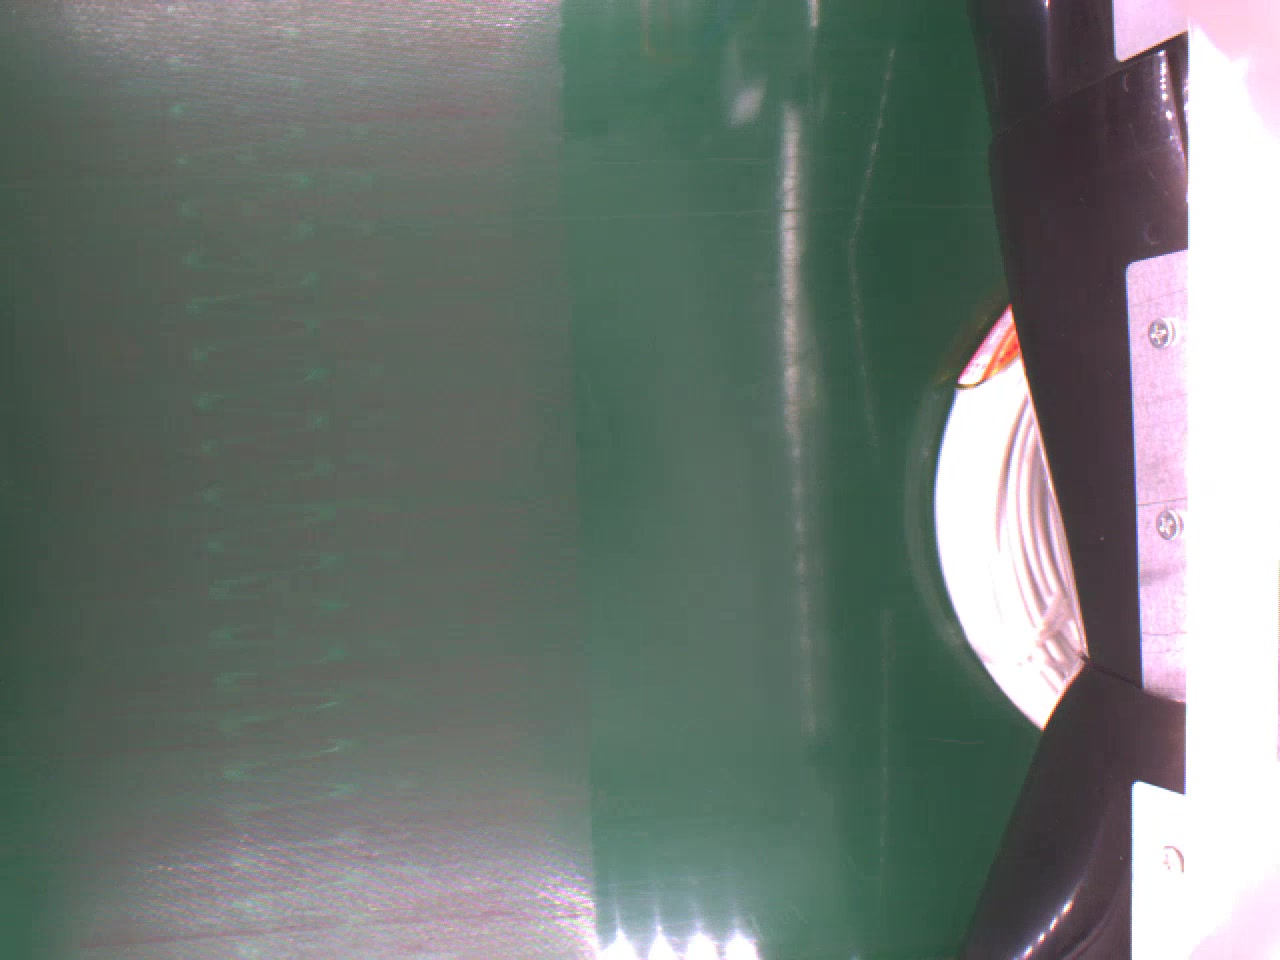white: (934, 303, 1081, 728)
